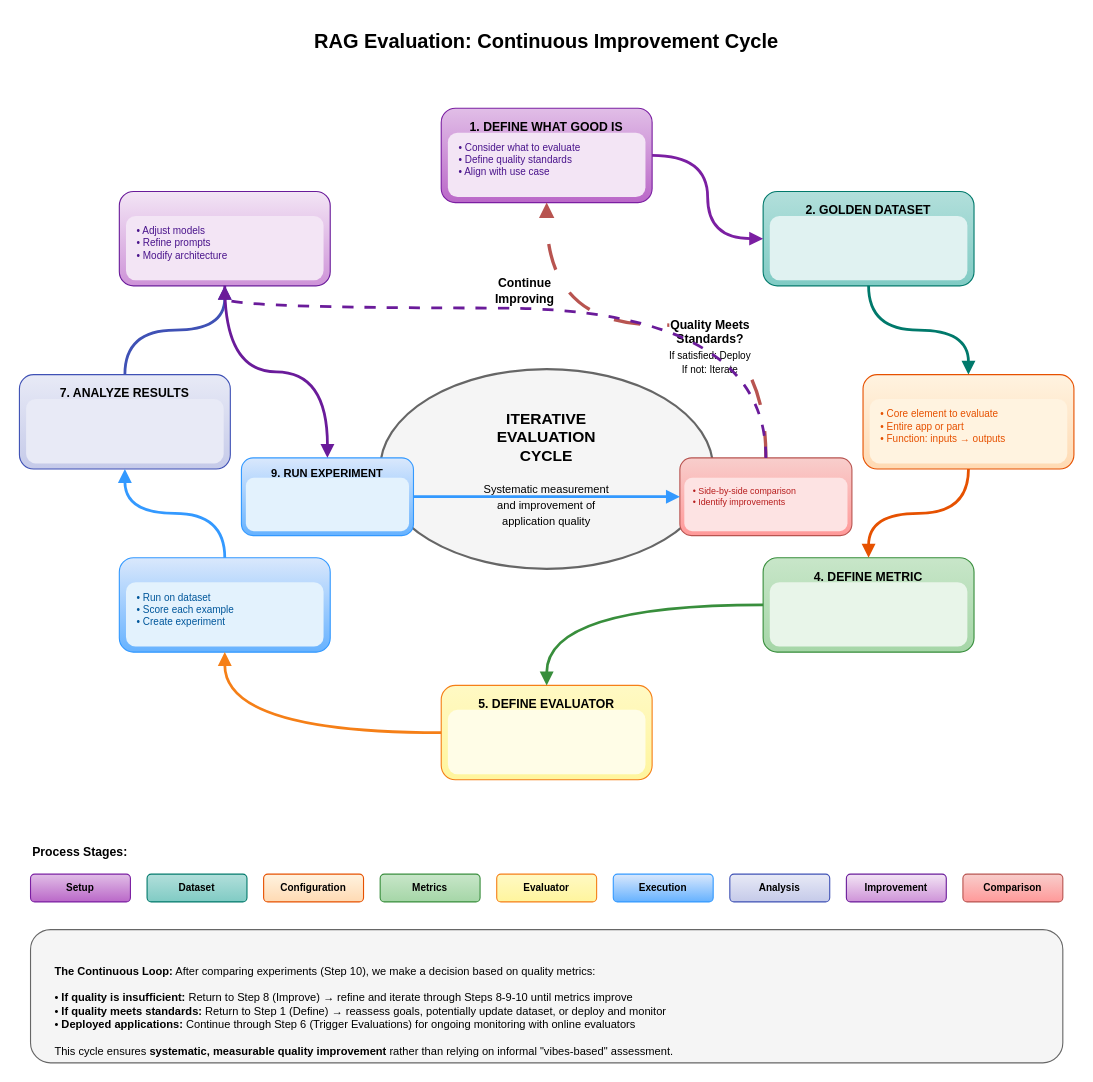
Some shapes in this 1093 by 1082 pixel diagram are drawn without their labels. Here are the shapes that lost their labels. From the top down, the box of each, then its label:
(118, 190, 330, 286): 8. IMPROVE VERSION
(769, 215, 967, 280): • Input + output examples • Good coverage • Verified against sources
(26, 398, 223, 463): • Examine executions • Review scores • Find problem areas
(862, 374, 1074, 469): 3. DEFINE TASK
(245, 477, 408, 531): • Test improved version • Same dataset & setup
(679, 457, 852, 536): 10. COMPARE
(118, 557, 330, 652): 6. TRIGGER EVALUATIONS
(769, 582, 967, 646): • Quantitative measure • Relevant to task • Guides decisions
(447, 709, 645, 774): • Scoring function • LLM as a Judge • Rule-based evaluators
(29, 929, 1063, 1063): Evaluation Cycle Reasoning:
